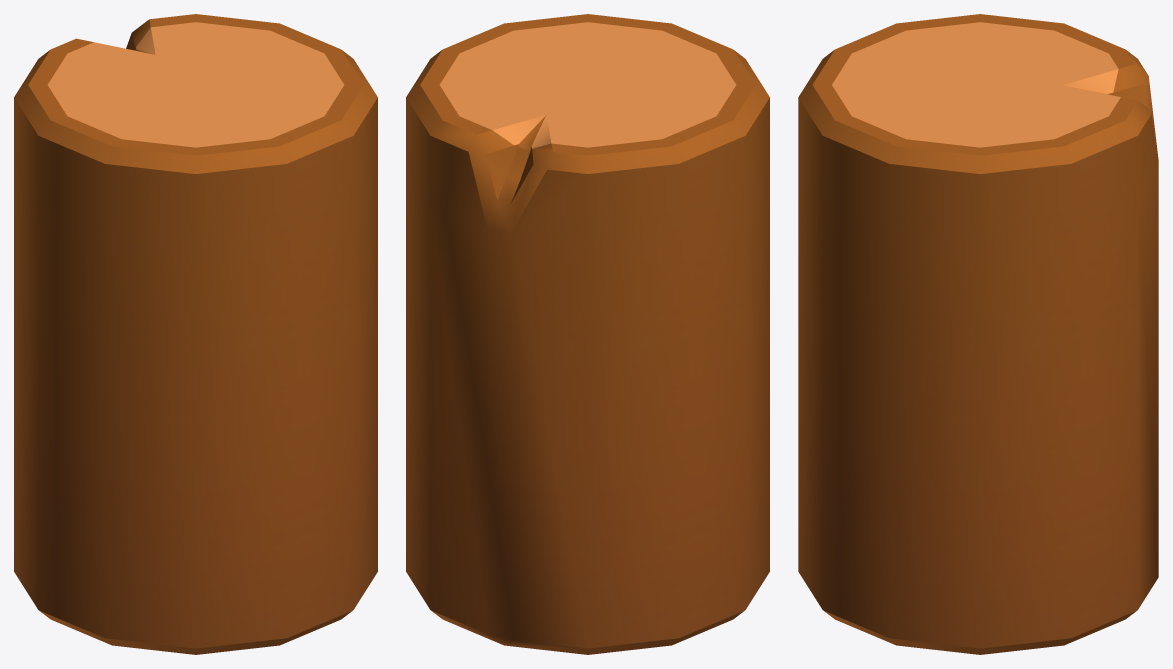
Rendered from Firewood_03.fbx.
The picture shows the model from 3 angles, left to right: view 1: azimuth 30°, elevation 25°; view 2: azimuth 150°, elevation 25°; view 3: azimuth 270°, elevation 25°; orthographic projection.
Parts seen in each view (by area): view 1: Firewood_03; view 2: Firewood_03; view 3: Firewood_03.
Part boxes in pixels (x1,y1,x2,y2): Firewood_03: (14,14,377,654); Firewood_03: (406,14,769,654); Firewood_03: (798,14,1158,654).
Size of the model in its own units: 53.39 by 80.81 by 52.86.
